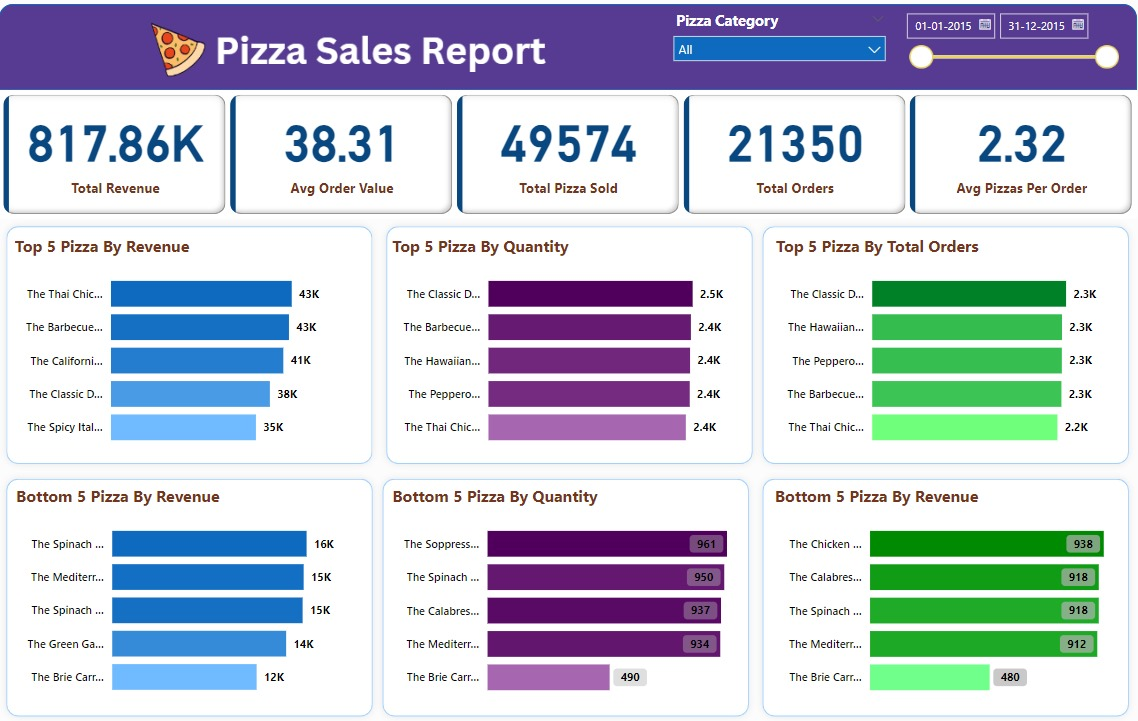

What the dashboard file says about the page in this screenshot:
{"tool":"powerbi","page":{"name":"Best/Bottom Sellers","canvas":[1500,800],"ordinal":1},"visuals":[{"type":"cardVisual","fields":{"Data":["pizza_sale.Total Revenue","pizza_sale.AVG Order Value","pizza_sale.Total Pizza Sold","pizza_sale.Total Orders","pizza_sale.Avg Pizzas Per Order"]},"box":[250.5,104.8,1240.5,140.3],"z":0},{"type":"shape","box":[250.5,10.9,1240.5,94],"z":1000},{"type":"shape","box":[250.5,245.1,415,275],"z":2000},{"type":"slicer","fields":{"Values":["pizza_sale.pizza_category"]},"box":[976.3,12.3,251.9,94],"z":3000},{"type":"slicer","fields":{"Values":["pizza_sale.order_date"]},"box":[1228.2,10.9,251.9,95.3],"z":4000},{"type":"shape","box":[664.5,245.1,415.3,275.1],"z":5000},{"type":"shape","box":[1075.7,245.1,415.3,275.1],"z":6000},{"type":"shape","box":[250.5,520.2,415.3,275.1],"z":7000},{"type":"shape","box":[660.4,520.2,415.3,275.1],"z":8000},{"type":"shape","box":[1075.7,520.2,415.3,275.1],"z":9000},{"type":"barChart","title":"Top 5 Pizza By Revenue ","fields":{"Category":["pizza_sale.pizza_name"],"Y":["pizza_sale.Total Revenue"]},"box":[263.5,263.5,387.2,244.2],"z":10000},{"type":"barChart","title":"Bottom 5 Pizza By Revenue ","fields":{"Category":["pizza_sale.pizza_name"],"Y":["pizza_sale.Total Revenue"]},"box":[264.2,535.1,386.7,243.7],"z":11000},{"type":"barChart","title":"Top 5 Pizza By Quantity","fields":{"Category":["pizza_sale.pizza_name"],"Y":["pizza_sale.Total Pizza Sold"]},"box":[674.8,263.5,387.2,244.2],"z":12000},{"type":"barChart","title":"Top 5 Pizza By Total Orders","fields":{"Category":["pizza_sale.pizza_name"],"Y":["pizza_sale.Total Orders"]},"box":[1092.6,263.5,387.2,244.2],"z":13000},{"type":"barChart","title":"Bottom 5 Pizza By Quantity","fields":{"Category":["pizza_sale.pizza_name"],"Y":["pizza_sale.Total Pizza Sold"]},"box":[674.8,535,385.6,244.2],"z":14000},{"type":"barChart","title":"Bottom 5 Pizza By Revenue ","fields":{"Category":["pizza_sale.pizza_name"],"Y":["pizza_sale.Total Orders"]},"box":[1090.9,535,385.6,244.2],"z":15000},{"type":"image","box":[284.6,20.9,691.5,85.2],"z":15001}]}

Visuals, with their boxes on the page's 1500x800 design canvas (x1, y1, x2, y2). These are canvas units, not pixel positions in the 1138x721 screenshot, which may show the page scaled, cropped or inside an application window:
cardVisual - pizza_sale.Total Revenue x pizza_sale.AVG Order Value: bbox=(250, 105, 1491, 245)
shape: bbox=(250, 11, 1491, 105)
shape: bbox=(250, 245, 666, 520)
slicer - pizza_sale.pizza_category: bbox=(976, 12, 1228, 106)
slicer - pizza_sale.order_date: bbox=(1228, 11, 1480, 106)
shape: bbox=(664, 245, 1080, 520)
shape: bbox=(1076, 245, 1491, 520)
shape: bbox=(250, 520, 666, 795)
shape: bbox=(660, 520, 1076, 795)
shape: bbox=(1076, 520, 1491, 795)
"Top 5 Pizza By Revenue " barChart: bbox=(264, 264, 651, 508)
"Bottom 5 Pizza By Revenue " barChart: bbox=(264, 535, 651, 779)
"Top 5 Pizza By Quantity" barChart: bbox=(675, 264, 1062, 508)
"Top 5 Pizza By Total Orders" barChart: bbox=(1093, 264, 1480, 508)
"Bottom 5 Pizza By Quantity" barChart: bbox=(675, 535, 1060, 779)
"Bottom 5 Pizza By Revenue " barChart: bbox=(1091, 535, 1476, 779)
image: bbox=(285, 21, 976, 106)
